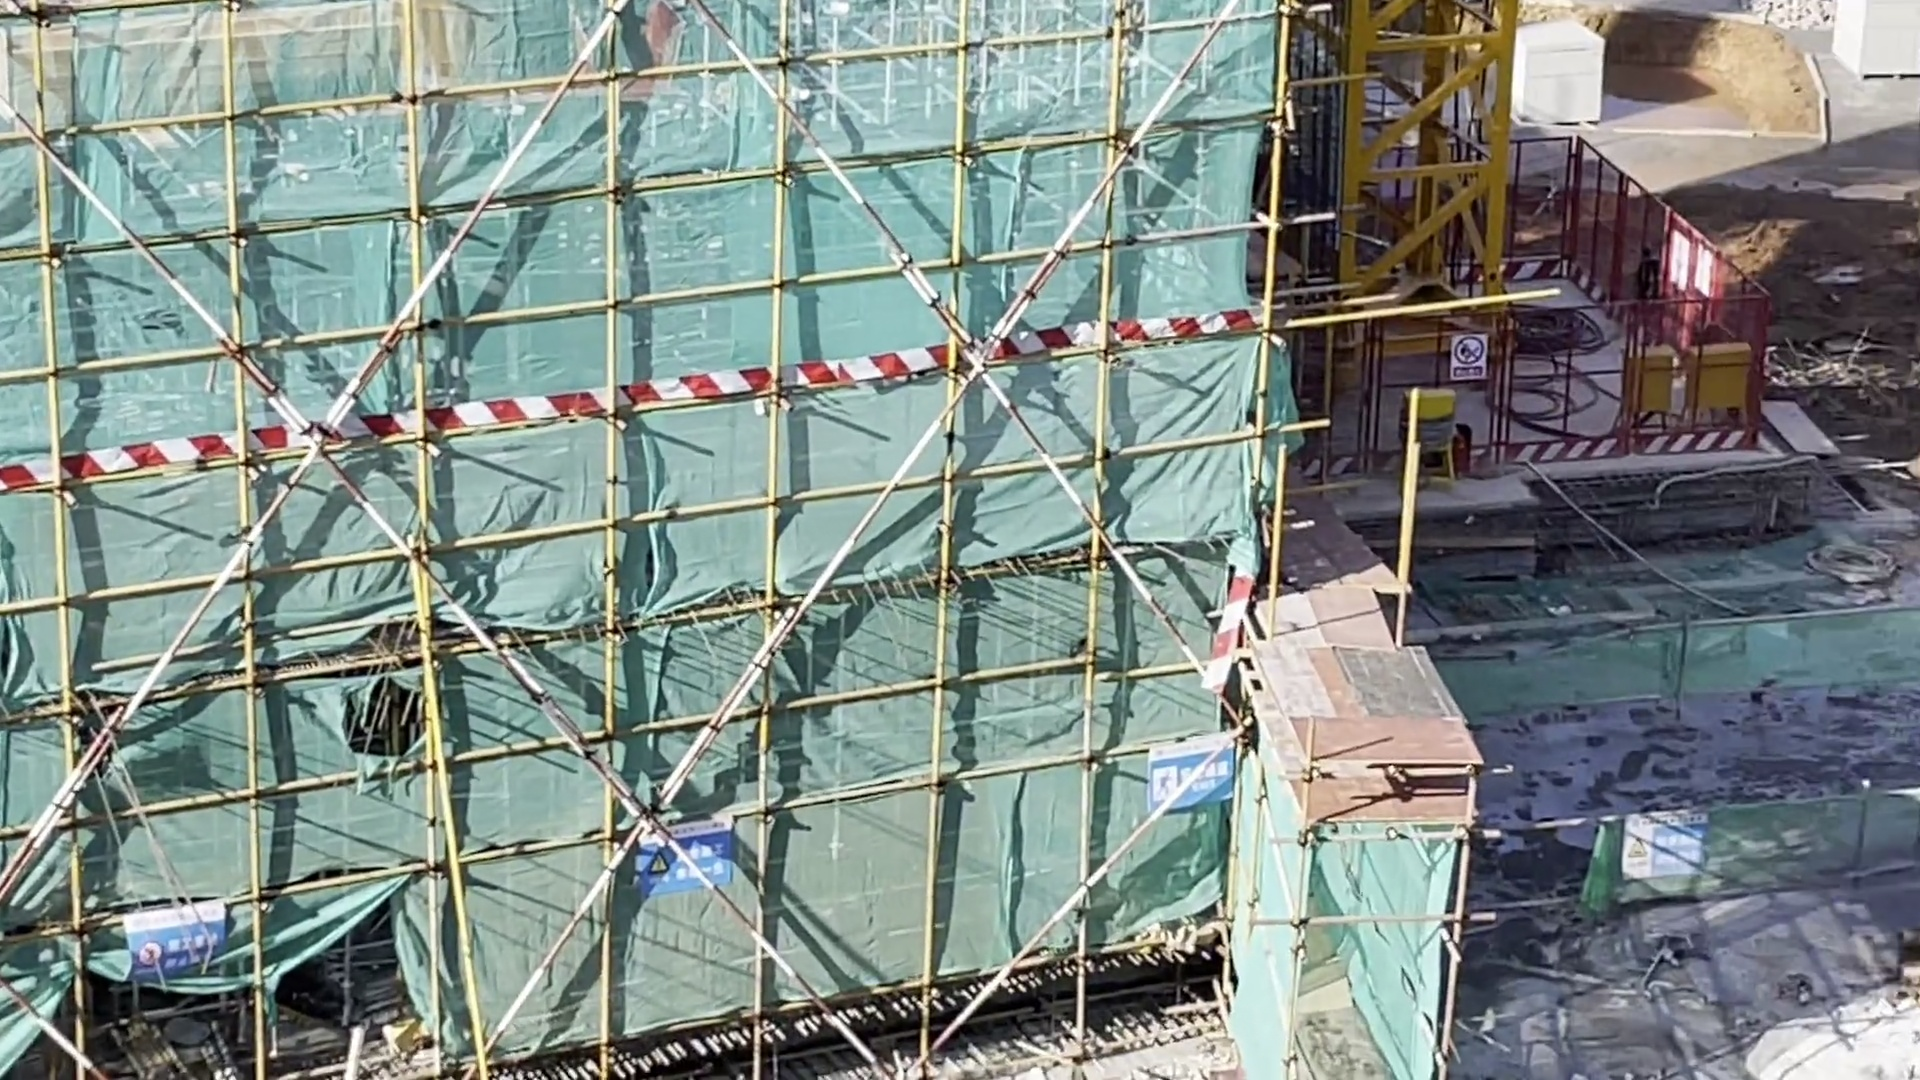slogan: (626, 814, 738, 906), (1146, 736, 1244, 833), (115, 898, 231, 976)
